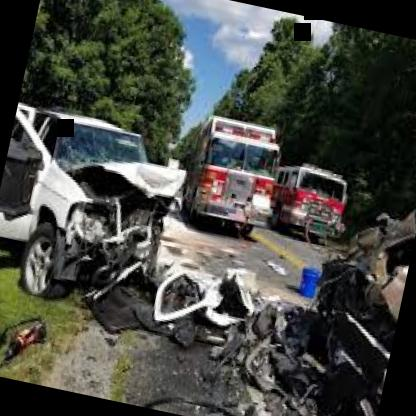accident: (0, 80, 213, 349)
